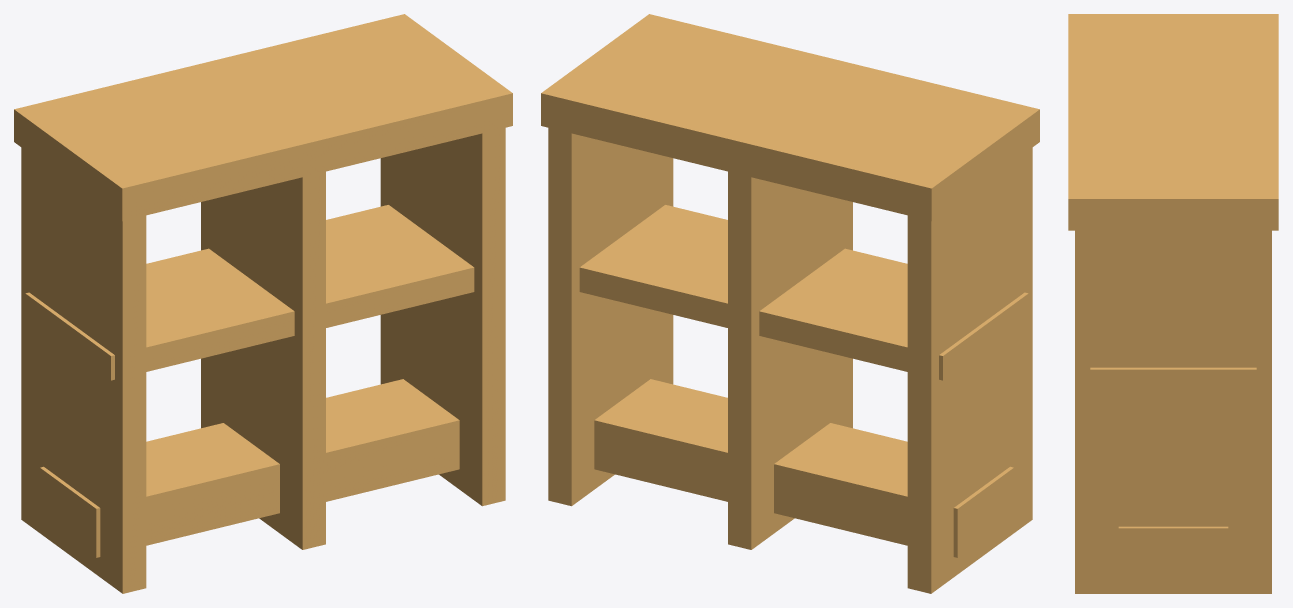
Rendered from safety_rail.glb.
The picture shows the model from 3 angles, left to right: view 1: azimuth 30°, elevation 25°; view 2: azimuth 150°, elevation 25°; view 3: azimuth 270°, elevation 25°; orthographic projection. The views are drawn at different scales.
Visible parts, largest first — view 1: RailSafety; view 2: RailSafety; view 3: RailSafety.
Boxes of the visible parts, x1,y1,x2,y2 form: RailSafety: [14, 14, 512, 593]; RailSafety: [541, 14, 1039, 593]; RailSafety: [1068, 14, 1278, 593].
Bounding box in the file's own units: 2 × 2 × 0.96.
